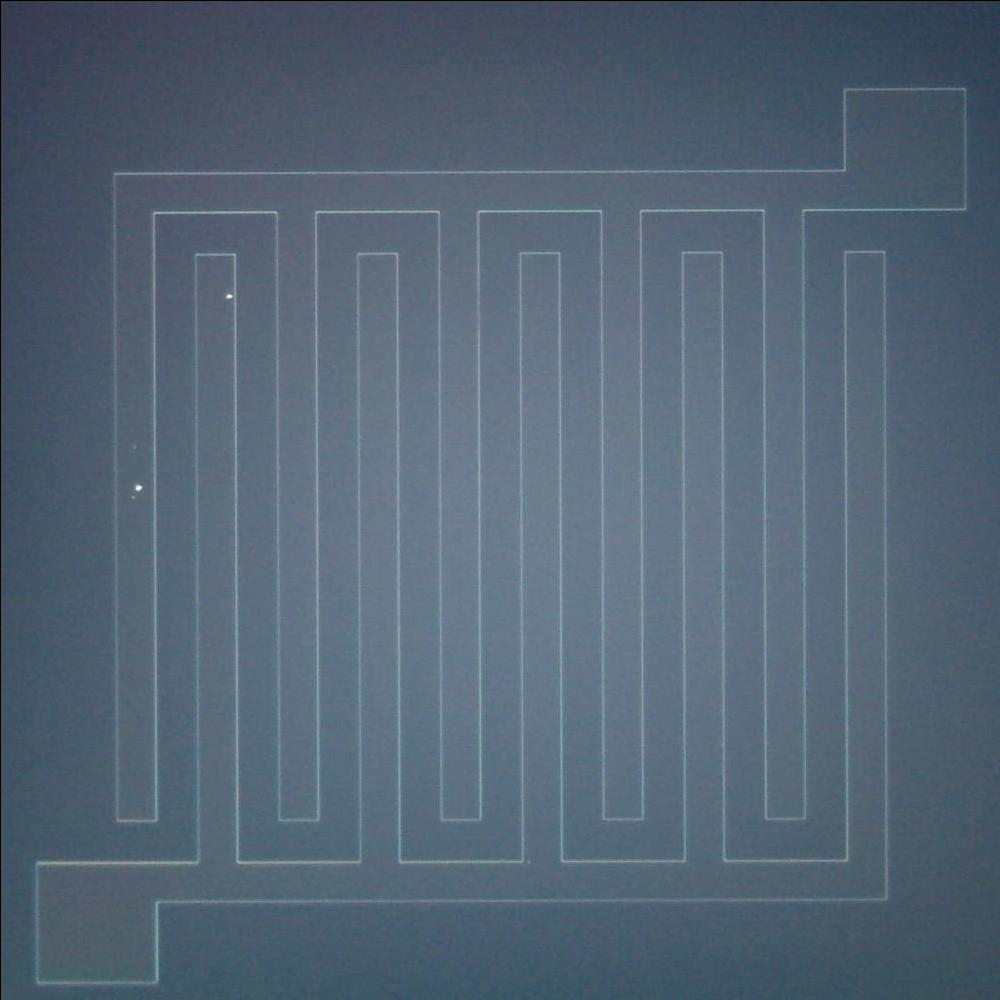dot: (125, 472, 153, 494), (217, 284, 238, 310)
